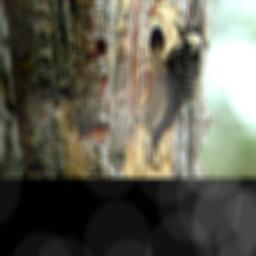Woodpecker: (137, 15, 211, 161)
